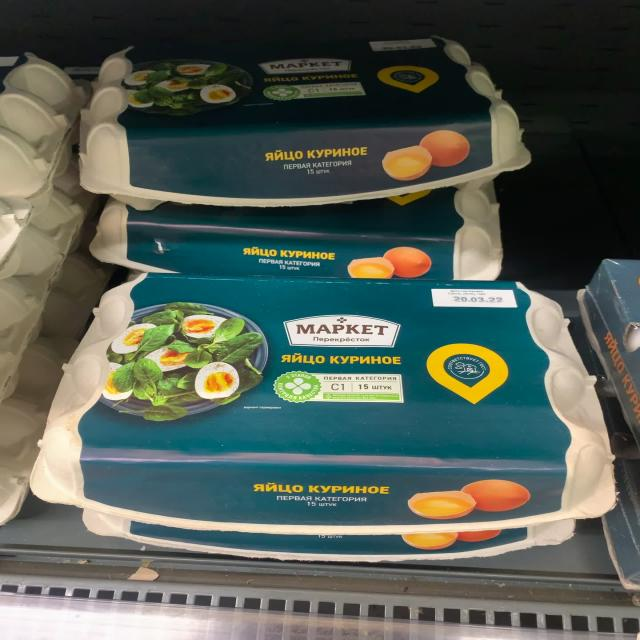egg box: (28, 268, 622, 533), (83, 33, 534, 214)
